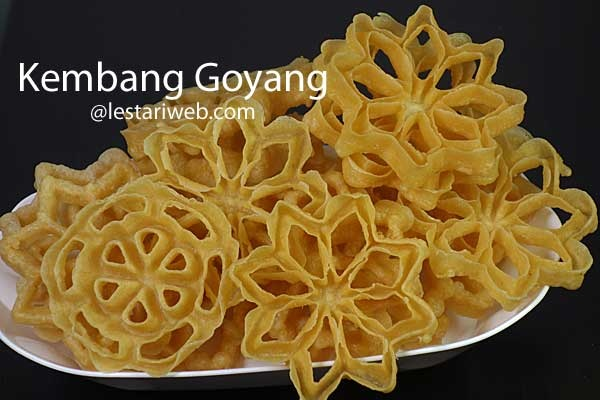kembang_goyang: (219, 184, 435, 400), (24, 180, 213, 365)
